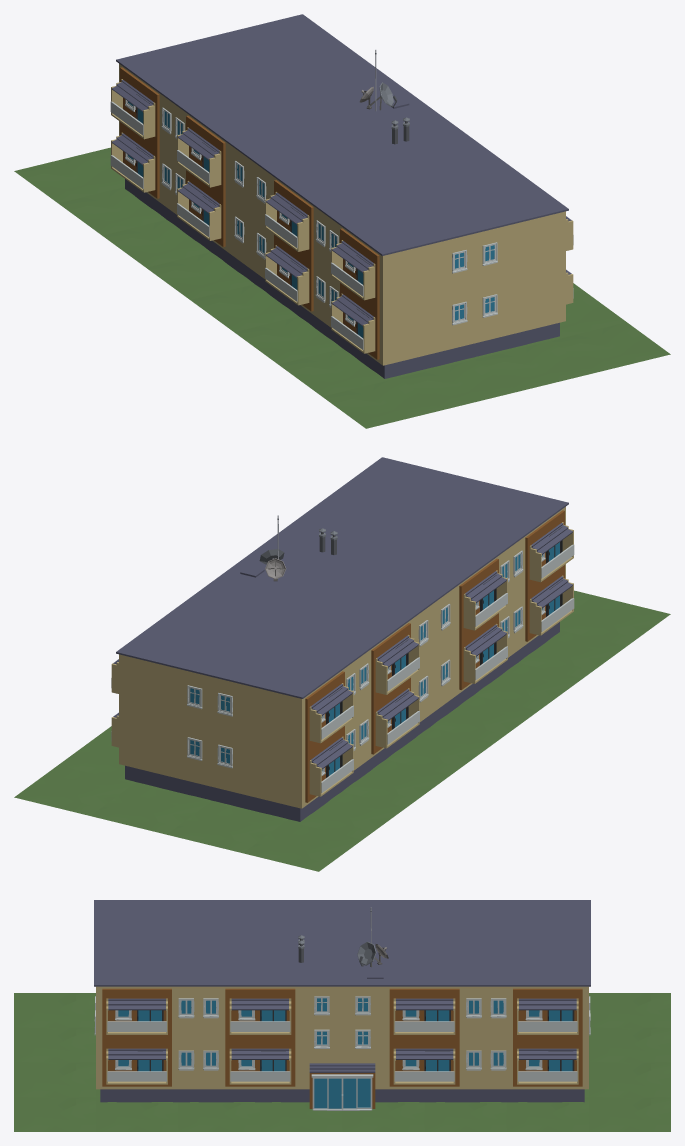
Rendered from Apartment.fbx.
3 views of the same model, one above another, from view 1: azimuth 30°, elevation 25°; view 2: azimuth 150°, elevation 25°; view 3: azimuth 270°, elevation 25° (orthographic). The views are drawn at different scales.
Visible parts, largest first — view 1: Cube__2_, Cube__1_, Cube, SM_Env_Grass_01, SM_Env_Grass_01__8_, SM_Env_Grass_01__4_, SM_Env_Grass_01__12_, SM_Env_Grass_01__27_, SM_Env_Grass_01__13_, SM_Env_Grass_01__26_, SM_Env_Grass_01__25_, SM_Env_Grass_01__24_ (+7 smaller); view 2: Cube__2_, Cube__1_, Cube, SM_Env_Grass_01__31_, SM_Env_Grass_01__29_, SM_Env_Grass_01__30_, SM_Env_Grass_01__27_, SM_Env_Grass_01__12_, SM_Env_Grass_01__26_, SM_Env_Grass_01__13_, SM_Env_Grass_01__14_, SM_Env_Grass_01__24_ (+7 smaller); view 3: Cube__2_, Cube__1_, Cube, Cube__3_, Cube__7_, Cube__10_, Cube__4_, SM_Env_Grass_01__30_, SM_Env_Grass_01__4_, SM_Env_Grass_01__8_, SM_Env_Grass_01__29_, SM_Env_Grass_01 (+32 smaller).
Boxes of the visible parts, left/top/right/bottom form: Cube__2_: left=116, top=14, right=568, bottom=255; Cube__1_: left=119, top=64, right=565, bottom=365; Cube: left=125, top=179, right=559, bottom=378; SM_Env_Grass_01: left=551, top=322, right=670, bottom=372; SM_Env_Grass_01__8_: left=398, top=359, right=517, bottom=409; SM_Env_Grass_01__4_: left=475, top=341, right=593, bottom=391; SM_Env_Grass_01__12_: left=322, top=378, right=441, bottom=428; SM_Env_Grass_01__27_: left=14, top=152, right=124, bottom=203; SM_Env_Grass_01__13_: left=278, top=348, right=397, bottom=396; SM_Env_Grass_01__26_: left=58, top=187, right=166, bottom=235; SM_Env_Grass_01__25_: left=102, top=220, right=210, bottom=267; SM_Env_Grass_01__24_: left=146, top=252, right=254, bottom=299; Cube__2_: left=116, top=457, right=568, bottom=698; Cube__1_: left=119, top=507, right=565, bottom=808; Cube: left=125, top=622, right=559, bottom=821; SM_Env_Grass_01__31_: left=14, top=765, right=133, bottom=815; SM_Env_Grass_01__29_: left=167, top=802, right=286, bottom=852; SM_Env_Grass_01__30_: left=91, top=784, right=209, bottom=834; SM_Env_Grass_01__27_: left=243, top=821, right=362, bottom=871; SM_Env_Grass_01__12_: left=560, top=595, right=670, bottom=646; SM_Env_Grass_01__26_: left=287, top=791, right=406, bottom=839; SM_Env_Grass_01__13_: left=518, top=630, right=626, bottom=678; SM_Env_Grass_01__14_: left=474, top=663, right=582, bottom=710; SM_Env_Grass_01__24_: left=386, top=727, right=494, bottom=774; Cube__2_: left=94, top=900, right=590, bottom=986; Cube__1_: left=96, top=986, right=588, bottom=1089; Cube: left=100, top=1089, right=584, bottom=1102; Cube__3_: left=389, top=988, right=459, bottom=1086; Cube__7_: left=225, top=988, right=295, bottom=1086; Cube__10_: left=102, top=988, right=171, bottom=1086; Cube__4_: left=513, top=988, right=582, bottom=1086; SM_Env_Grass_01__30_: left=589, top=1062, right=670, bottom=1097; SM_Env_Grass_01__4_: left=14, top=1062, right=95, bottom=1097; SM_Env_Grass_01__8_: left=14, top=1027, right=95, bottom=1062; SM_Env_Grass_01__29_: left=589, top=1027, right=670, bottom=1062; SM_Env_Grass_01: left=14, top=1097, right=95, bottom=1131.
Bounding box in the file's own units: 2000 × 1191 × 4000.
7 materials, 1 textured.
